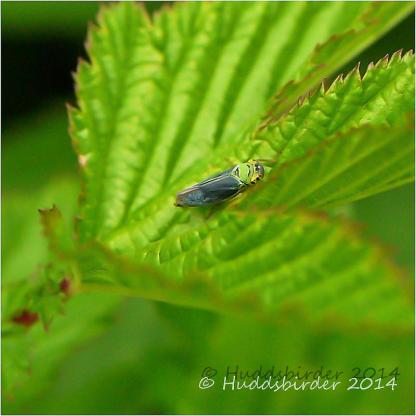Green-Leafhopper: (170, 148, 274, 213)
